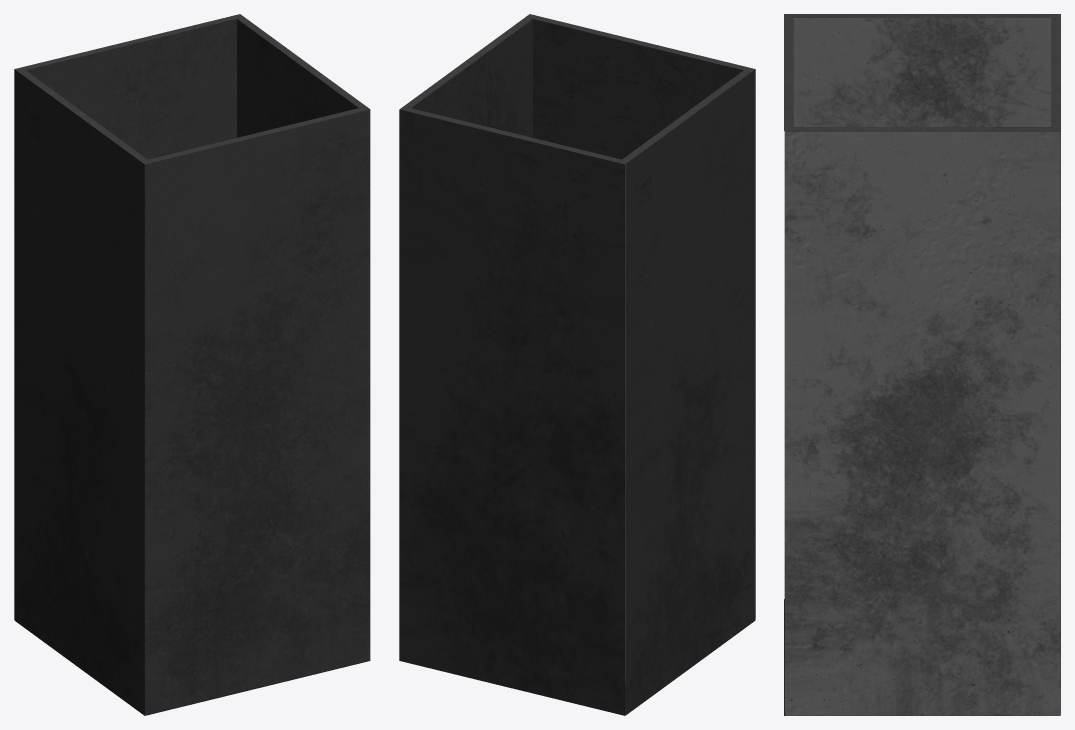
File: Vase.fbx
3 renders of one model, left to right at view 1: azimuth 30°, elevation 25°; view 2: azimuth 150°, elevation 25°; view 3: azimuth 270°, elevation 25°, orthographic. The views are drawn at different scales.
Visible parts, largest first — view 1: Vase; view 2: Vase; view 3: Vase.
Boxes of the visible parts, bbox=[...] form: Vase: bbox=[14, 14, 370, 715]; Vase: bbox=[399, 14, 755, 715]; Vase: bbox=[784, 14, 1060, 715].
Bounding box in the file's own units: 254 × 592 × 254.
1 material, 1 textured.
